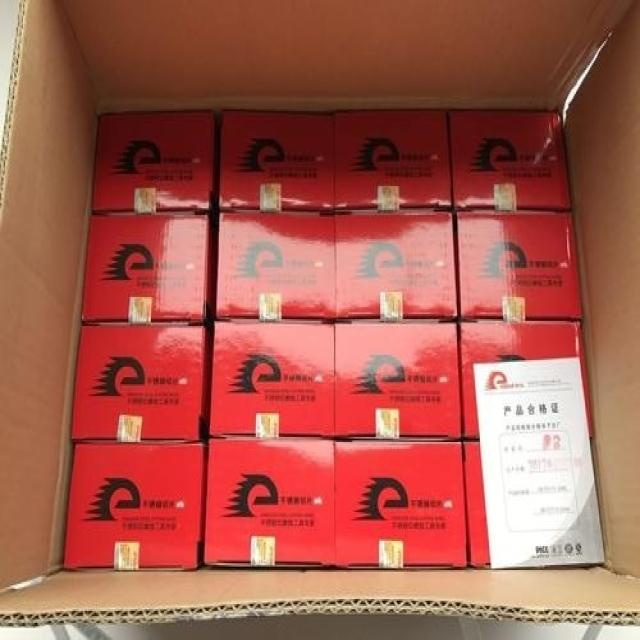box: (64, 442, 208, 569), (71, 320, 216, 443), (334, 438, 470, 567), (204, 436, 335, 566), (459, 319, 595, 440), (335, 319, 463, 441), (82, 211, 220, 323), (209, 317, 335, 438), (454, 210, 584, 319), (334, 210, 458, 320), (91, 110, 224, 212), (216, 213, 336, 321), (333, 111, 453, 215), (448, 110, 571, 211), (219, 110, 334, 213), (464, 441, 492, 568)
